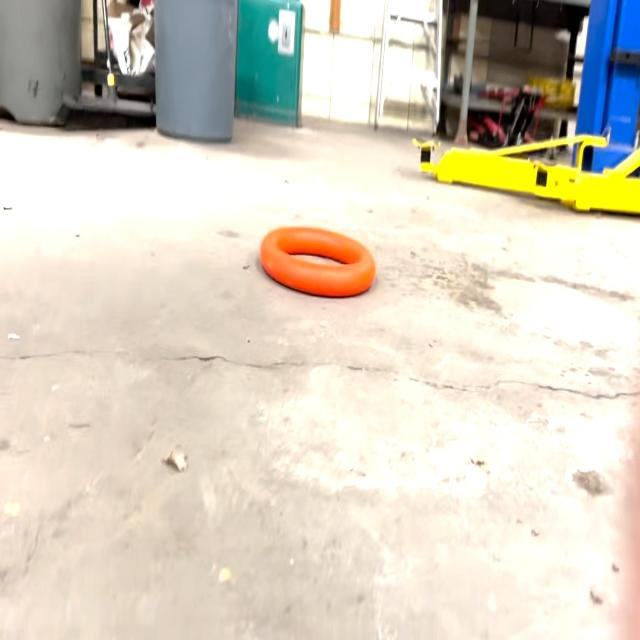note: (261, 224, 377, 295)
